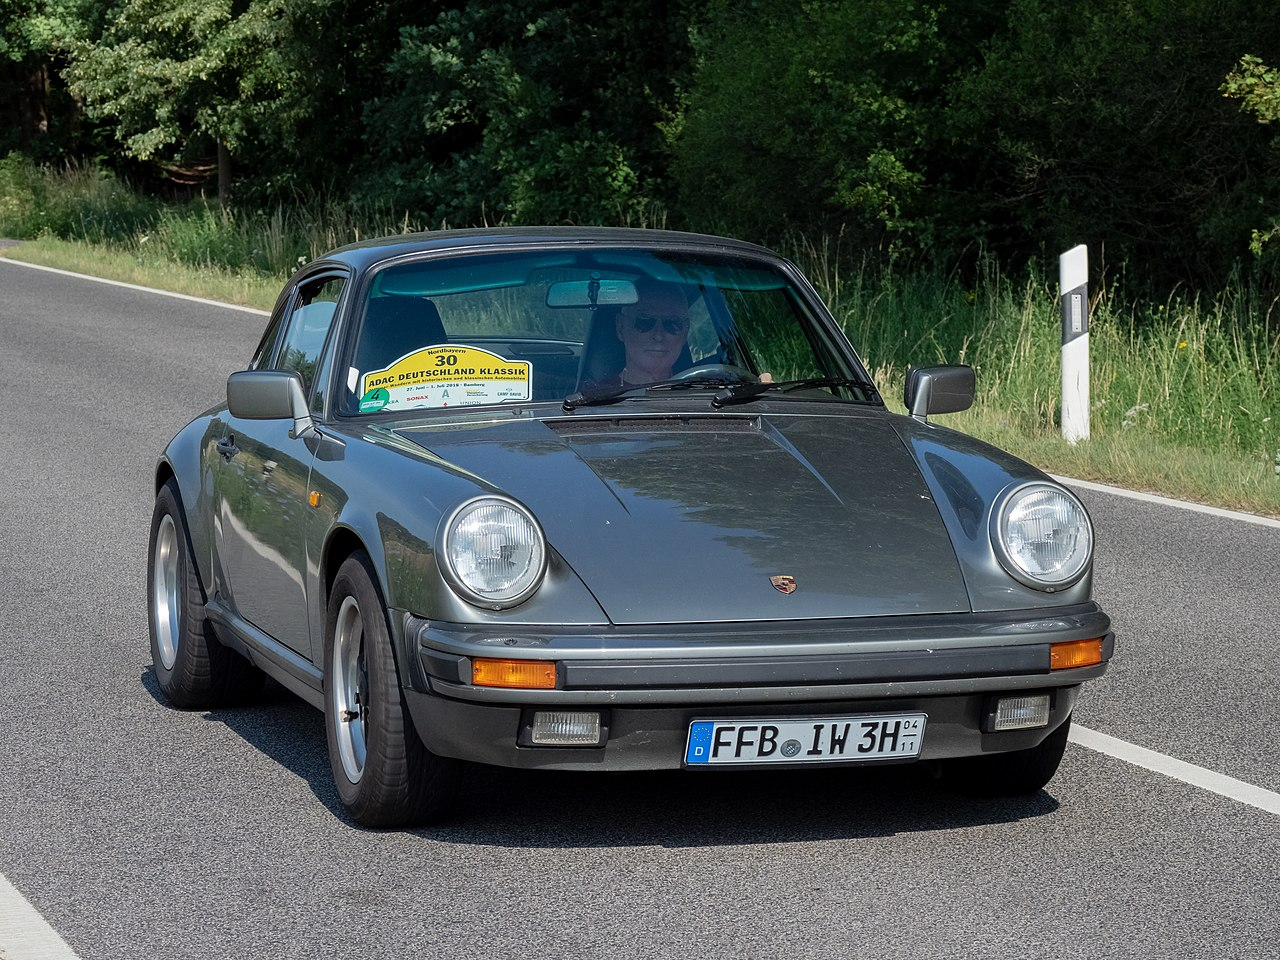plate: (683, 713, 929, 767)
